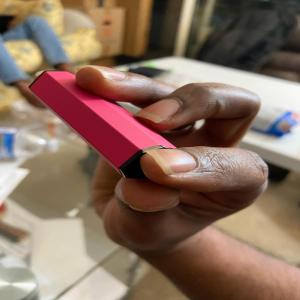Blume-E-Ciggirate: (27, 69, 199, 179)
